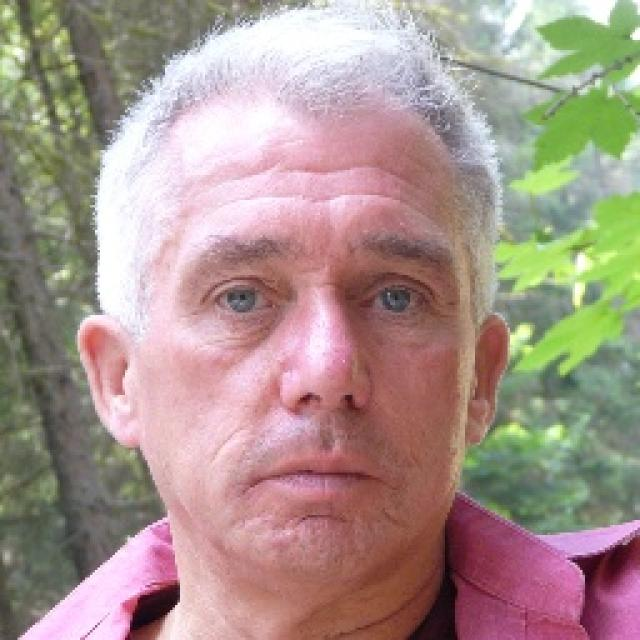earlobe: (106, 403, 141, 450), (463, 404, 493, 447)
eye: (206, 282, 273, 317), (358, 286, 425, 317)
nose: (281, 394, 372, 448)
wholeear: (76, 315, 143, 449), (463, 313, 511, 447)
